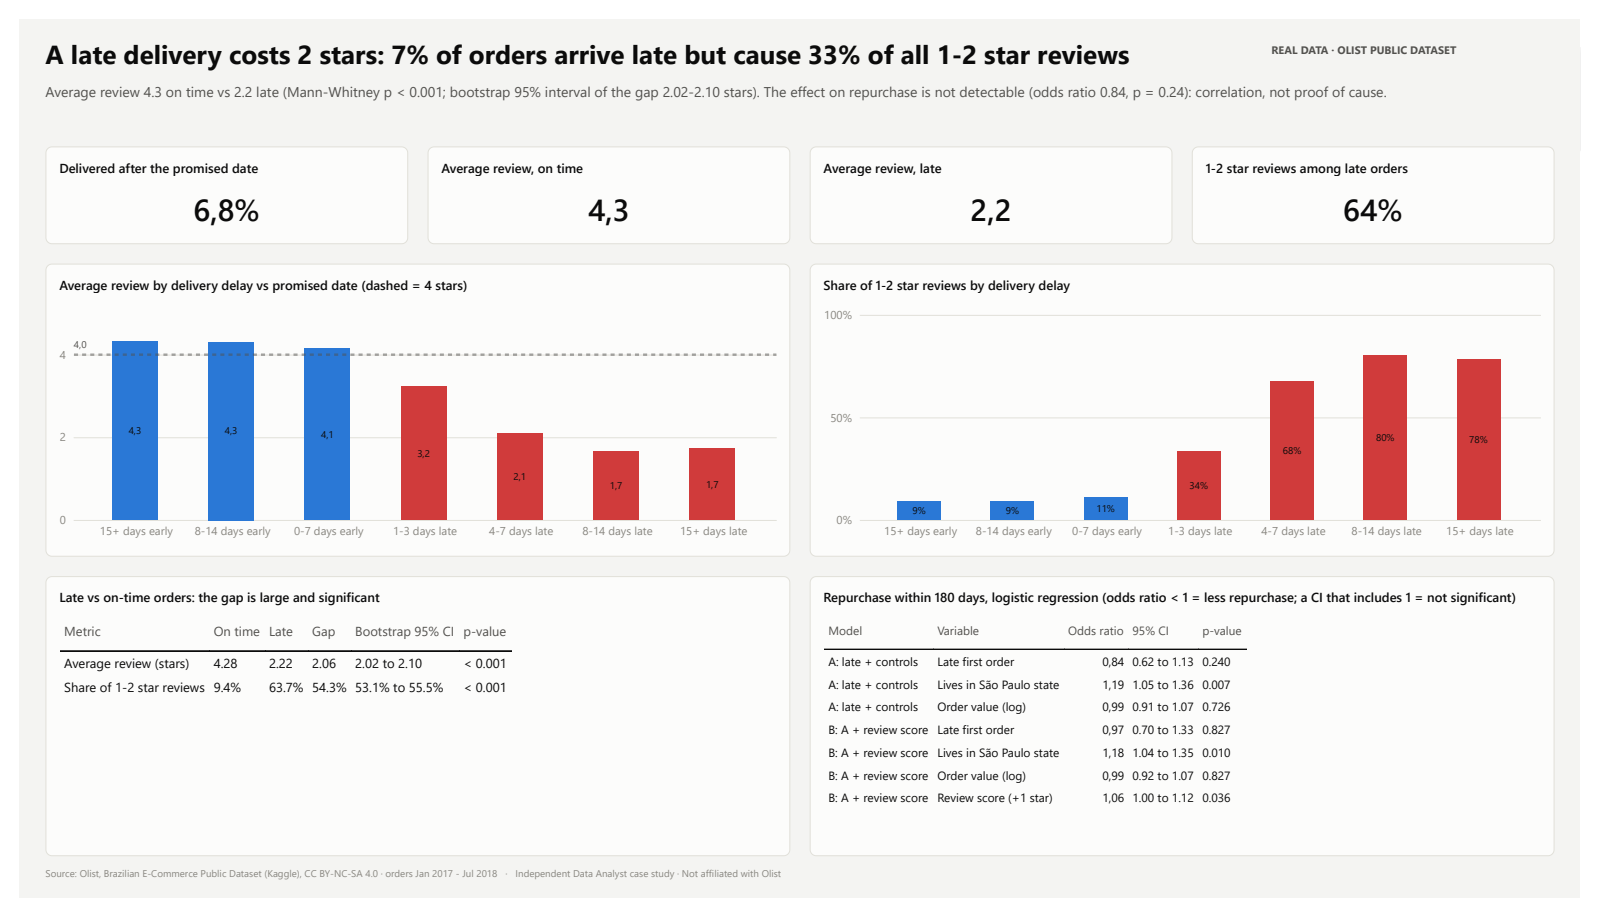

This screenshot's page, from the dashboard's own definition file:
{"tool":"powerbi","page":{"name":"2 · Delivery & satisfaction","canvas":[1920,1080],"ordinal":2},"visuals":[{"type":"textbox","box":[32,20,1500,56],"z":1000},{"type":"textbox","box":[1540,28,348,40],"z":2000},{"type":"textbox","box":[32,76,1856,64],"z":3000},{"type":"card","title":"Delivered after the promised date","fields":{"Values":["_Measures.Late Rate"]},"box":[32,156,446,120],"z":4000},{"type":"card","title":"Average review, on time","fields":{"Values":["_Measures.Avg Review On Time"]},"box":[502,156,446,120],"z":5000},{"type":"card","title":"Average review, late","fields":{"Values":["_Measures.Avg Review Late"]},"box":[972,156,446,120],"z":6000},{"type":"card","title":"1-2 star reviews among late orders","fields":{"Values":["_Measures.Share 1-2 Stars Late"]},"box":[1442,156,446,120],"z":7000},{"type":"columnChart","title":"Average review by delivery delay vs promised date (dashed = 4 stars)","fields":{"Category":["Delay Buckets.delay_bucket"],"Y":["_Measures.Bucket Avg Review (on time)","_Measures.Bucket Avg Review (late)"]},"box":[32,300,916,360],"z":8000},{"type":"columnChart","title":"Share of 1-2 star reviews by delivery delay","fields":{"Category":["Delay Buckets.delay_bucket"],"Y":["_Measures.Bucket Share 1-2 Stars (on time)","_Measures.Bucket Share 1-2 Stars (late)"]},"box":[972,300,916,360],"z":9000},{"type":"tableEx","title":"Late vs on-time orders: the gap is large and significant","fields":{"Values":["Delivery Stats.metric","Delivery Stats.on_time_txt","Delivery Stats.late_txt","Delivery Stats.gap_txt","Delivery Stats.ci_txt","Delivery Stats.p_txt"]},"box":[32,684,916,344],"z":10000},{"type":"tableEx","title":"Repurchase within 180 days, logistic regression (odds ratio < 1 = less repurchase; a CI that includes 1 = not significant)","fields":{"Values":["Repurchase Model.model","Repurchase Model.variable","Repurchase Model.odds_ratio","Repurchase Model.ci_txt","Repurchase Model.p_txt"]},"box":[972,684,916,344],"z":11000},{"type":"textbox","box":[32,1040,1856,32],"z":12000}]}

Visuals, with their boxes in screenshot pixels (x1, y1, x2, y2), scaled from the page's 1920x1080 canvas onto the 1600x918 screenshot:
textbox: <box>27,17,1277,65</box>
textbox: <box>1283,24,1573,58</box>
textbox: <box>27,65,1573,119</box>
"Delivered after the promised date" card: <box>27,133,398,235</box>
"Average review, on time" card: <box>418,133,790,235</box>
"Average review, late" card: <box>810,133,1182,235</box>
"1-2 star reviews among late orders" card: <box>1202,133,1573,235</box>
"Average review by delivery delay vs promised date (dashed = 4 stars)" columnChart: <box>27,255,790,561</box>
"Share of 1-2 star reviews by delivery delay" columnChart: <box>810,255,1573,561</box>
"Late vs on-time orders: the gap is large and significant" tableEx: <box>27,581,790,874</box>
"Repurchase within 180 days, logistic regression (odds ratio < 1 = less repurchase; a CI that includes 1 = not significant)" tableEx: <box>810,581,1573,874</box>
textbox: <box>27,884,1573,911</box>
